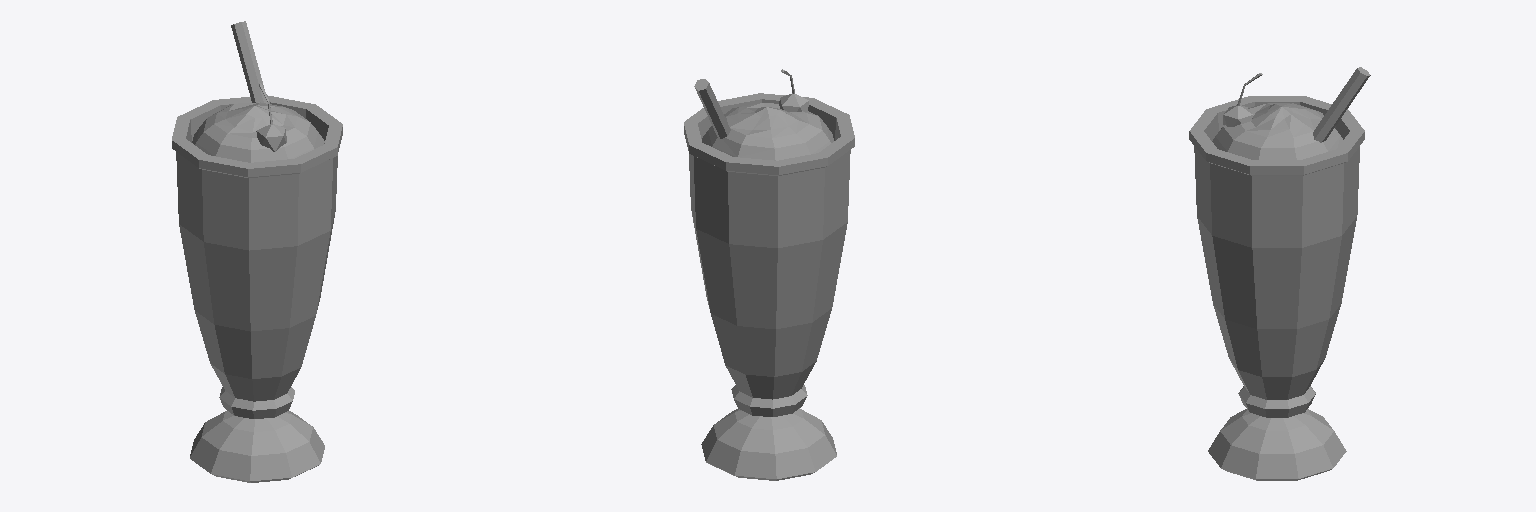
The model's file is Milkshake.obj.
3 renders of one model, left to right at view 1: azimuth 30°, elevation 25°; view 2: azimuth 150°, elevation 25°; view 3: azimuth 270°, elevation 25°, orthographic.
Visible parts, largest first — view 1: Glass_Cylinder, Milkshake_Cylinder.001; view 2: Glass_Cylinder, Milkshake_Cylinder.001; view 3: Glass_Cylinder, Milkshake_Cylinder.001.
Part boxes in pixels (bbox=[...]): Glass_Cylinder: bbox=[172, 95, 342, 482]; Milkshake_Cylinder.001: bbox=[192, 21, 324, 162]; Glass_Cylinder: bbox=[684, 93, 854, 480]; Milkshake_Cylinder.001: bbox=[694, 69, 833, 160]; Glass_Cylinder: bbox=[1189, 96, 1364, 480]; Milkshake_Cylinder.001: bbox=[1212, 67, 1370, 159].
Bounding box in the file's own units: 0.7046 × 1.86 × 0.7645.